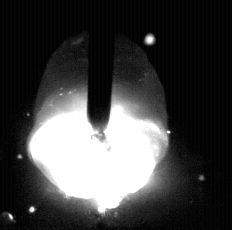arame: (87, 0, 112, 141)
poca: (27, 0, 171, 230)
